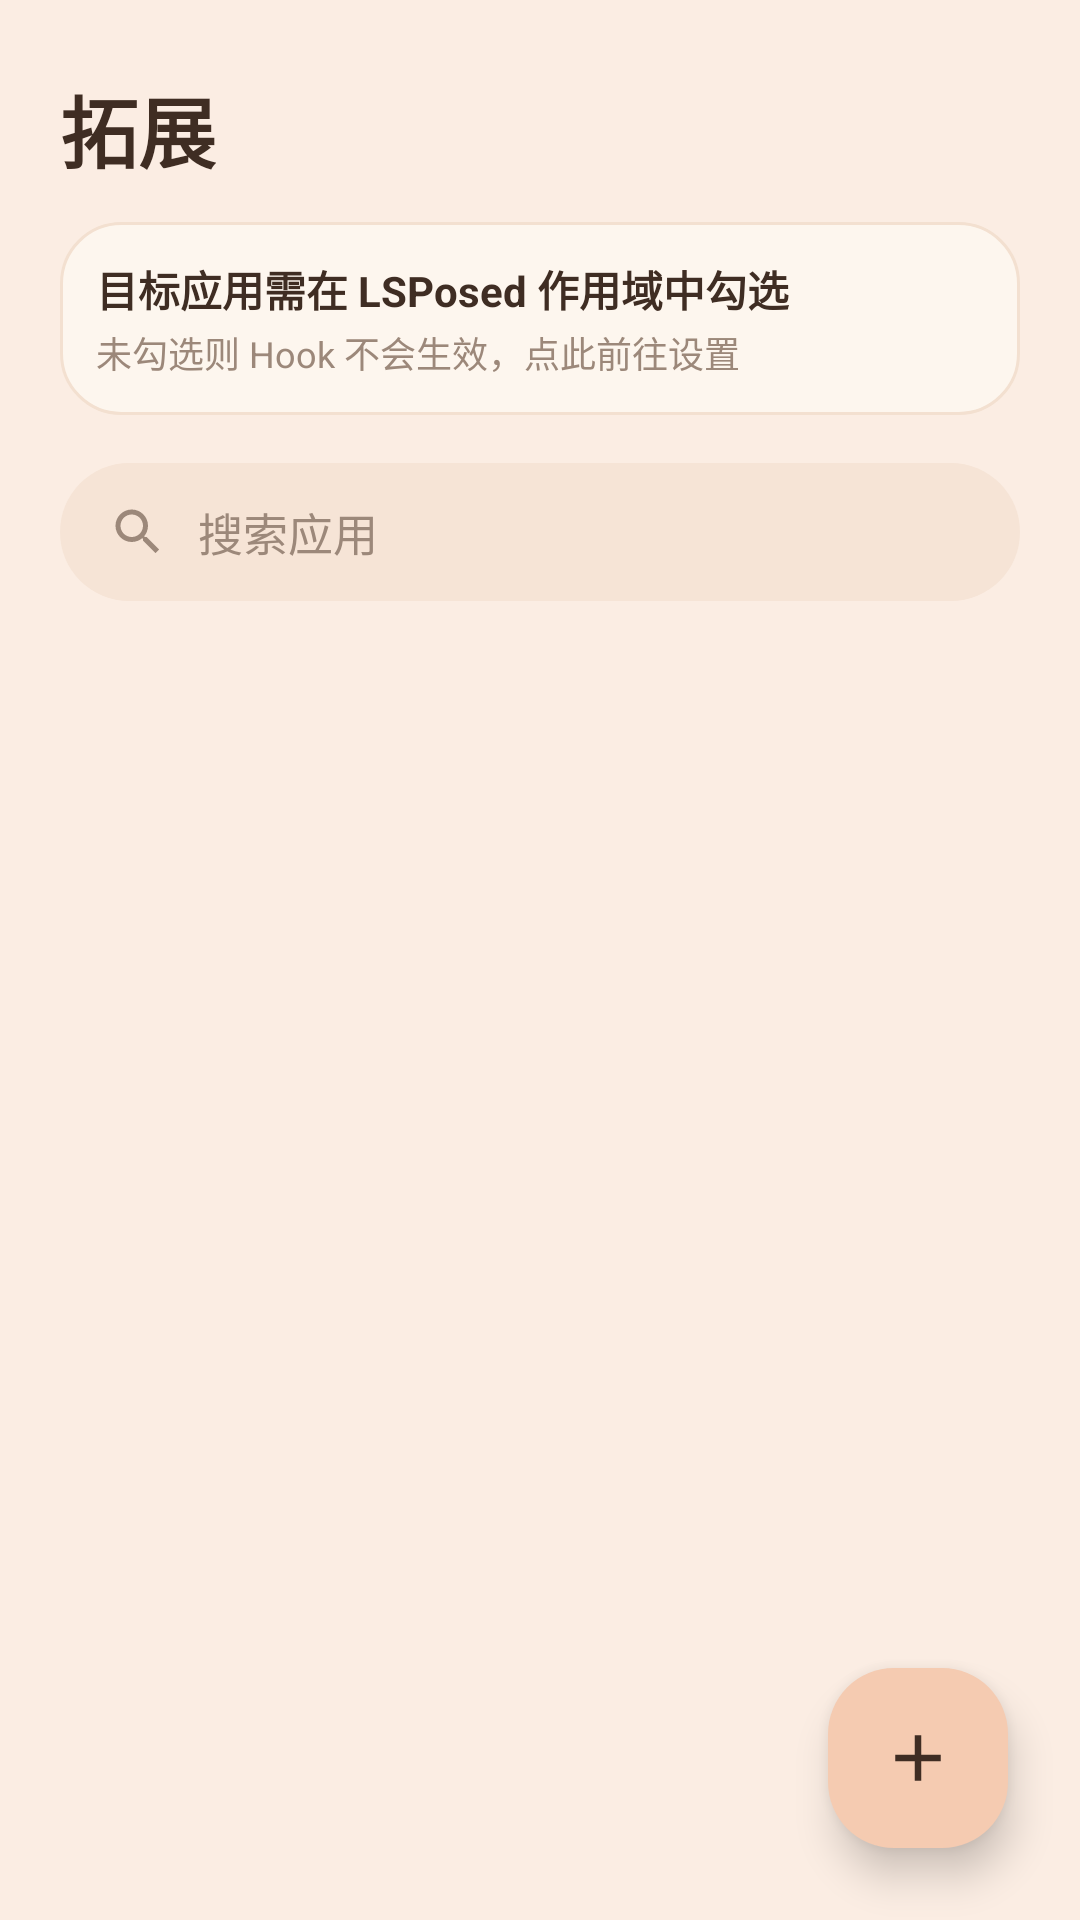

Icons on this 1080×1920 Android screen, each with its box as rect(x1, y1, x2, y2):
add: rect(895, 1735, 941, 1781)
search: rect(115, 509, 159, 553)
